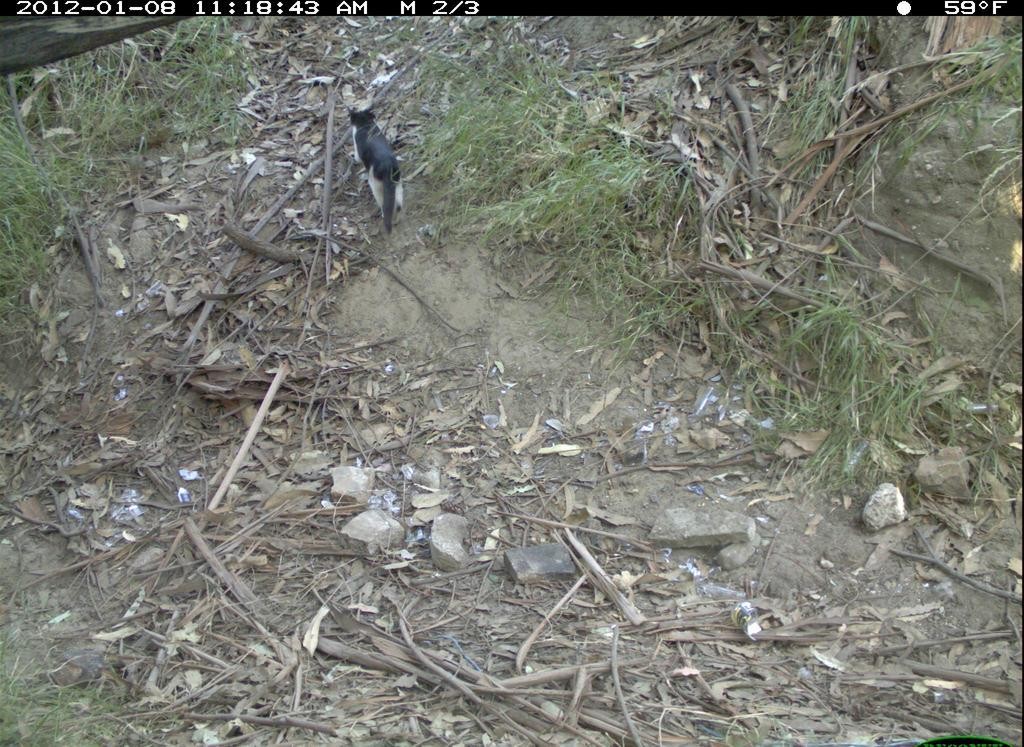cat: (346, 99, 419, 237)
